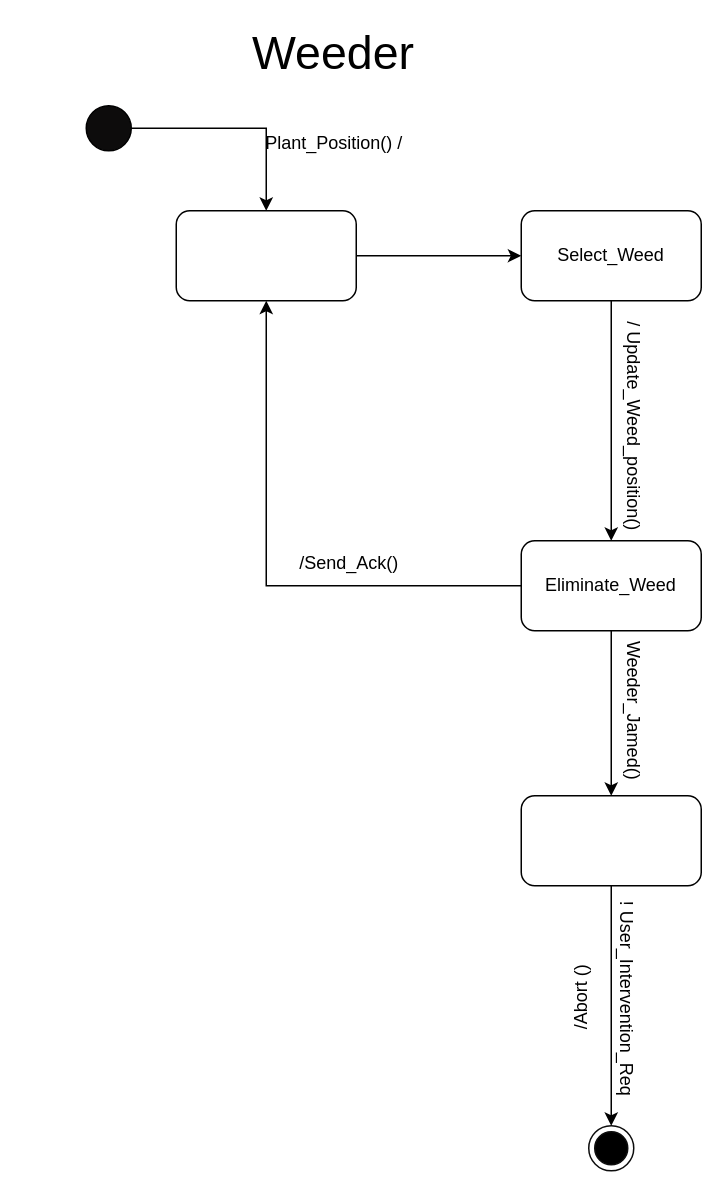
The diagram is 728 pixels wide and 1197 high, and some of its shapes have lost their labels. The shapes that lost their labels are listed below. From the top down, each one's centre as x and y in pixels, then its label:
At point (265, 255): "Idle".
At point (610, 840): "Update_User".
